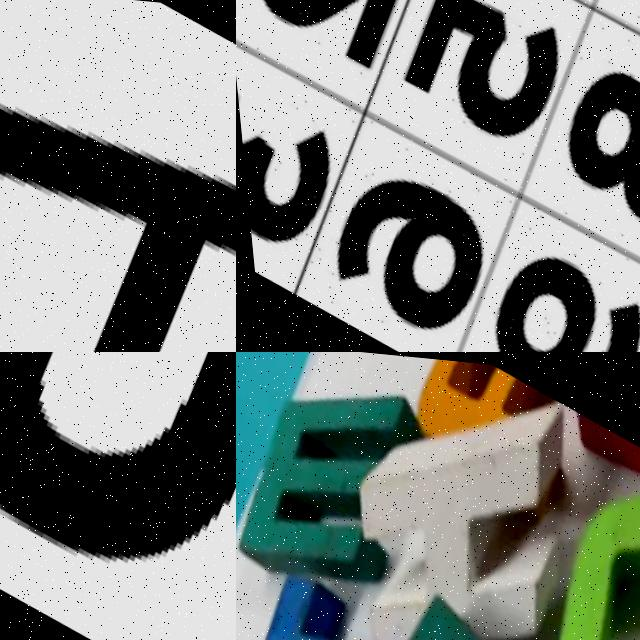2: (236, 0, 426, 78)
3: (236, 69, 348, 266)
5: (380, 0, 579, 157)
6: (296, 137, 505, 350)
8: (530, 34, 640, 240)
9: (449, 221, 640, 352)
C: (488, 417, 640, 640)
H: (265, 352, 640, 640)
K: (258, 564, 619, 640)
M: (236, 352, 444, 608)
R: (0, 352, 236, 640)
T: (236, 557, 437, 640)
